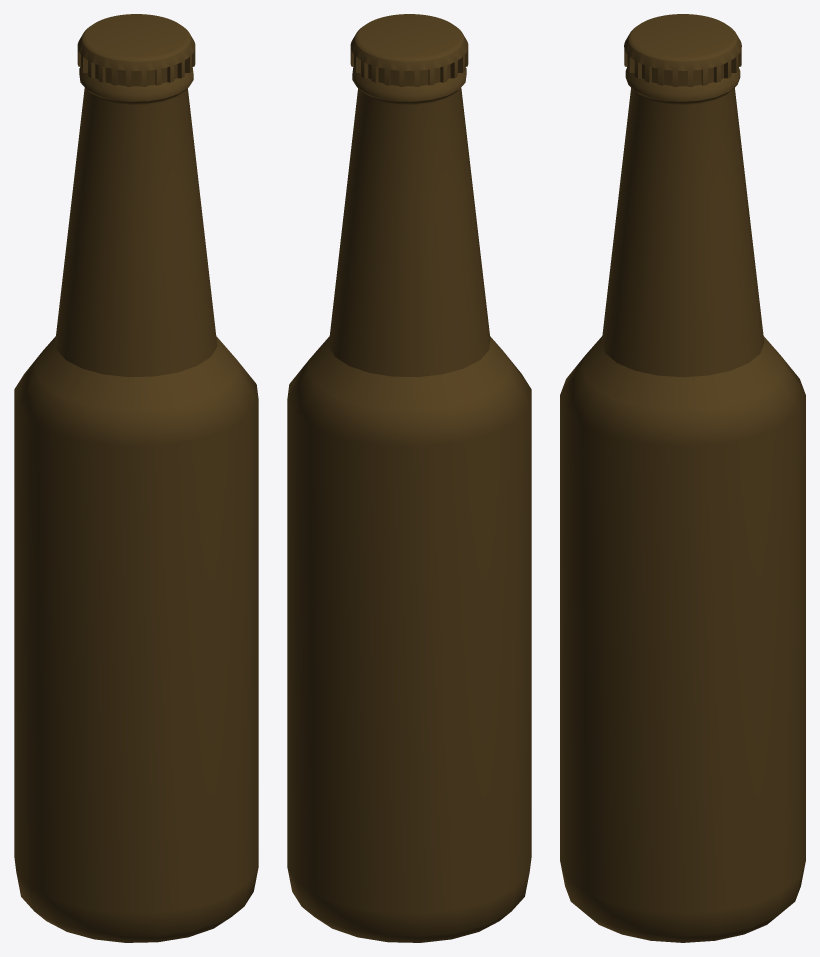
File: beer_bottle1.fbx
3 views of the same model, side by side, from view 1: azimuth 30°, elevation 25°; view 2: azimuth 150°, elevation 25°; view 3: azimuth 270°, elevation 25° (orthographic).
Visible parts, largest first — view 1: pCylinder3, pCylinder2; view 2: pCylinder3, pCylinder2; view 3: pCylinder3, pCylinder2.
Boxes of the visible parts, bbox=[...] form: pCylinder3: bbox=[14, 67, 258, 942]; pCylinder2: bbox=[77, 14, 195, 86]; pCylinder3: bbox=[287, 67, 531, 942]; pCylinder2: bbox=[350, 14, 468, 86]; pCylinder3: bbox=[560, 67, 805, 942]; pCylinder2: bbox=[624, 14, 741, 86].
Size of the model in its own units: 1.6 by 6.25 by 1.6.
